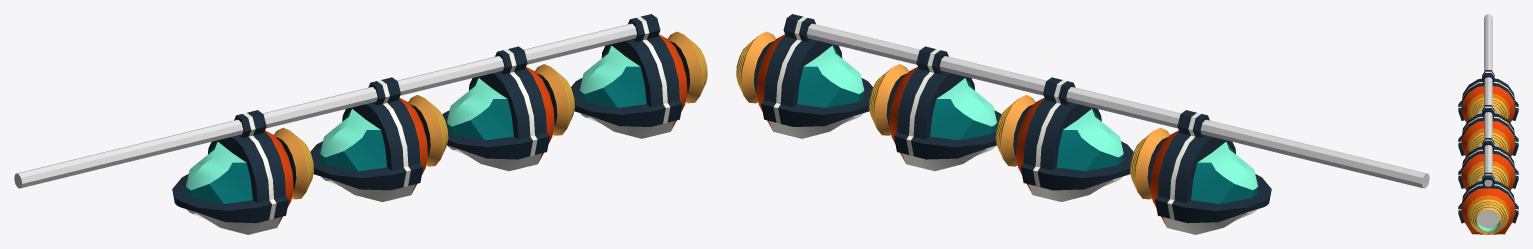
Rendered from Buildings_MonoRail.fbx.
The picture shows the model from 3 angles, left to right: view 1: azimuth 30°, elevation 25°; view 2: azimuth 150°, elevation 25°; view 3: azimuth 270°, elevation 25°; orthographic projection. The views are drawn at different scales.
Parts seen in each view (by area): view 1: Packiage, BezierCurve; view 2: Packiage, BezierCurve; view 3: Packiage, BezierCurve.
Part boxes in pixels (left/top/right/bottom): Packiage: left=172, top=14, right=707, bottom=234; BezierCurve: left=14, top=23, right=637, bottom=188; Packiage: left=736, top=14, right=1271, bottom=234; BezierCurve: left=806, top=23, right=1429, bottom=188; Packiage: left=1458, top=70, right=1518, bottom=234; BezierCurve: left=1484, top=14, right=1492, bottom=186.
Size of the model in its own units: 354 by 52.32 by 51.15.
